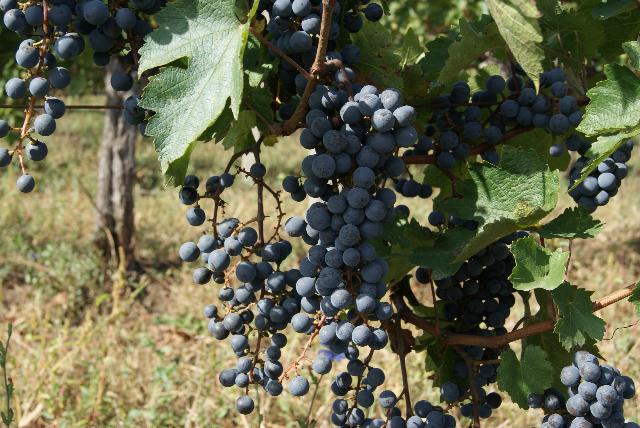grapes: (305, 86, 415, 320), (409, 241, 515, 424), (179, 219, 286, 396), (402, 68, 584, 170), (319, 321, 388, 428), (312, 354, 332, 375)
